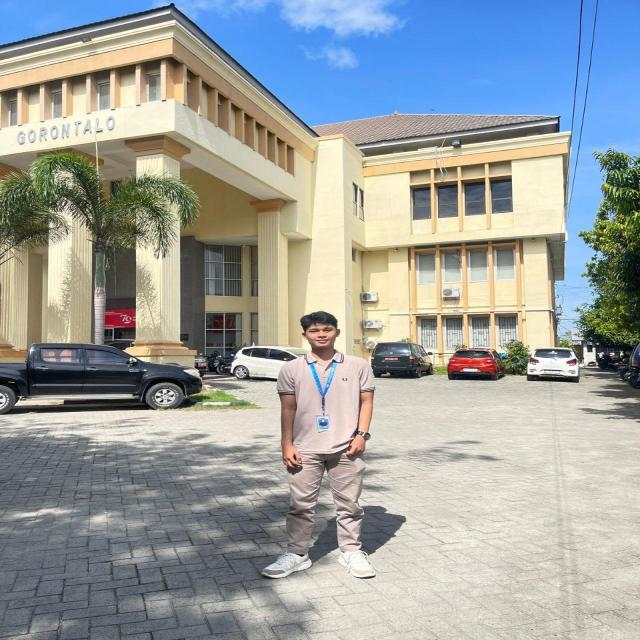nohelmet: (293, 310, 348, 352)
